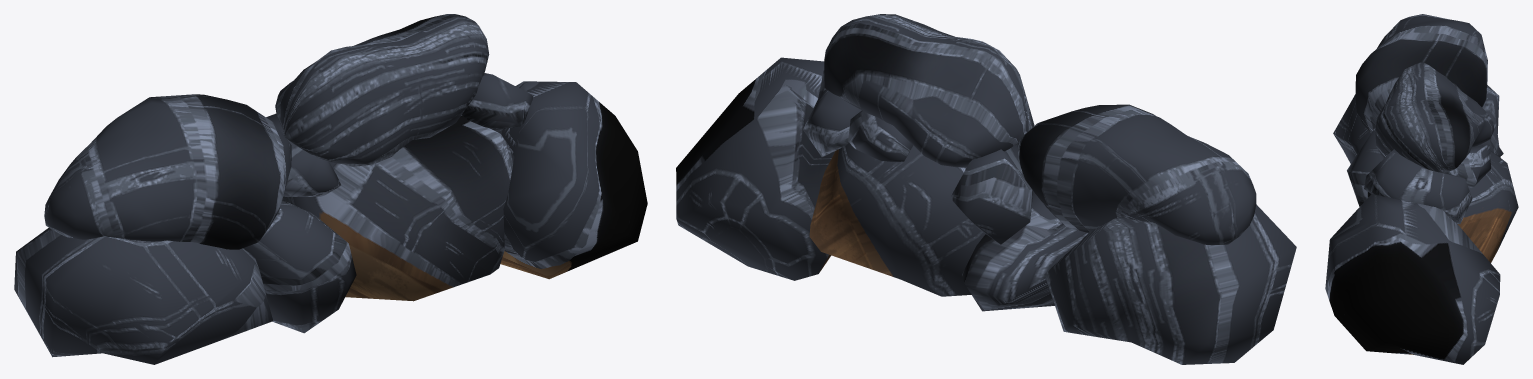
File: rocks.fbx
The picture shows the model from 3 angles, left to right: view 1: azimuth 30°, elevation 25°; view 2: azimuth 150°, elevation 25°; view 3: azimuth 270°, elevation 25°; orthographic projection. The views are drawn at different scales.
Visible parts, largest first — view 1: 8_lp, 9_lp, 5_lp, 1_lp, 4_lp, 6_lp, 2_lp, 7_lp; view 2: 9_lp, 8_lp, 1_lp, 4_lp, 5_lp, 6_lp, 7_lp, 2_lp, 3_lp; view 3: 1_lp, 4_lp, 8_lp, 2_lp, 5_lp, 9_lp, 6_lp, 3_lp, 7_lp.
Boxes of the visible parts, x1=… form: 8_lp: x1=44, y1=94, x2=291, y2=249; 9_lp: x1=14, y1=228, x2=272, y2=364; 5_lp: x1=282, y1=115, x2=514, y2=301; 1_lp: x1=495, y1=81, x2=647, y2=279; 4_lp: x1=275, y1=14, x2=489, y2=166; 6_lp: x1=243, y1=200, x2=356, y2=333; 2_lp: x1=462, y1=73, x2=533, y2=130; 7_lp: x1=266, y1=113, x2=341, y2=196; 9_lp: x1=1044, y1=204, x2=1296, y2=364; 8_lp: x1=1017, y1=104, x2=1256, y2=245; 1_lp: x1=676, y1=57, x2=835, y2=280; 4_lp: x1=824, y1=14, x2=1034, y2=167; 5_lp: x1=809, y1=143, x2=985, y2=296; 6_lp: x1=962, y1=191, x2=1088, y2=311; 7_lp: x1=951, y1=144, x2=1033, y2=244; 2_lp: x1=803, y1=70, x2=861, y2=156; 3_lp: x1=848, y1=110, x2=912, y2=161; 1_lp: x1=1325, y1=194, x2=1500, y2=364; 4_lp: x1=1375, y1=62, x2=1494, y2=172; 8_lp: x1=1355, y1=14, x2=1487, y2=132; 2_lp: x1=1364, y1=149, x2=1472, y2=224; 5_lp: x1=1368, y1=144, x2=1518, y2=262; 9_lp: x1=1333, y1=85, x2=1500, y2=163; 6_lp: x1=1347, y1=128, x2=1383, y2=206; 3_lp: x1=1445, y1=145, x2=1490, y2=188; 7_lp: x1=1481, y1=136, x2=1503, y2=156.
Bounding box in the file's own units: 467 × 196 × 162.
